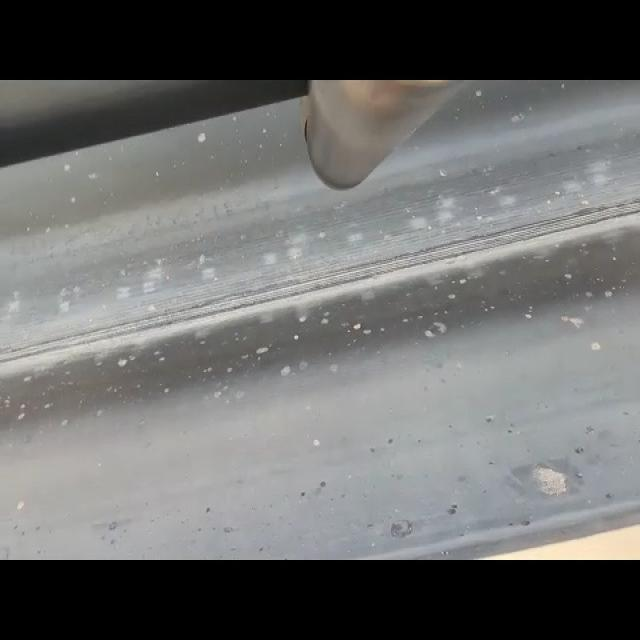Wear: (0, 190, 640, 380), (493, 456, 582, 506)
